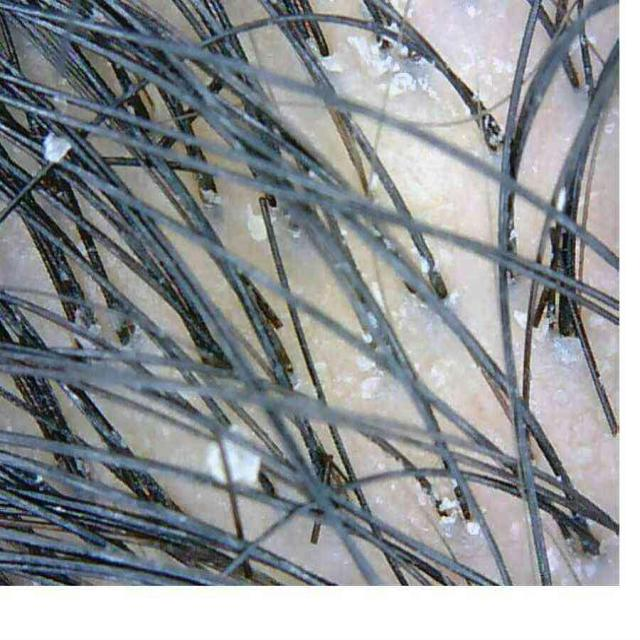d: (349, 32, 414, 94), (205, 437, 262, 491), (304, 38, 344, 75), (359, 369, 385, 405), (248, 200, 268, 243), (42, 132, 69, 162), (438, 493, 460, 527), (366, 281, 385, 309), (462, 519, 481, 539), (514, 309, 527, 329), (463, 5, 479, 18), (419, 258, 431, 273)
